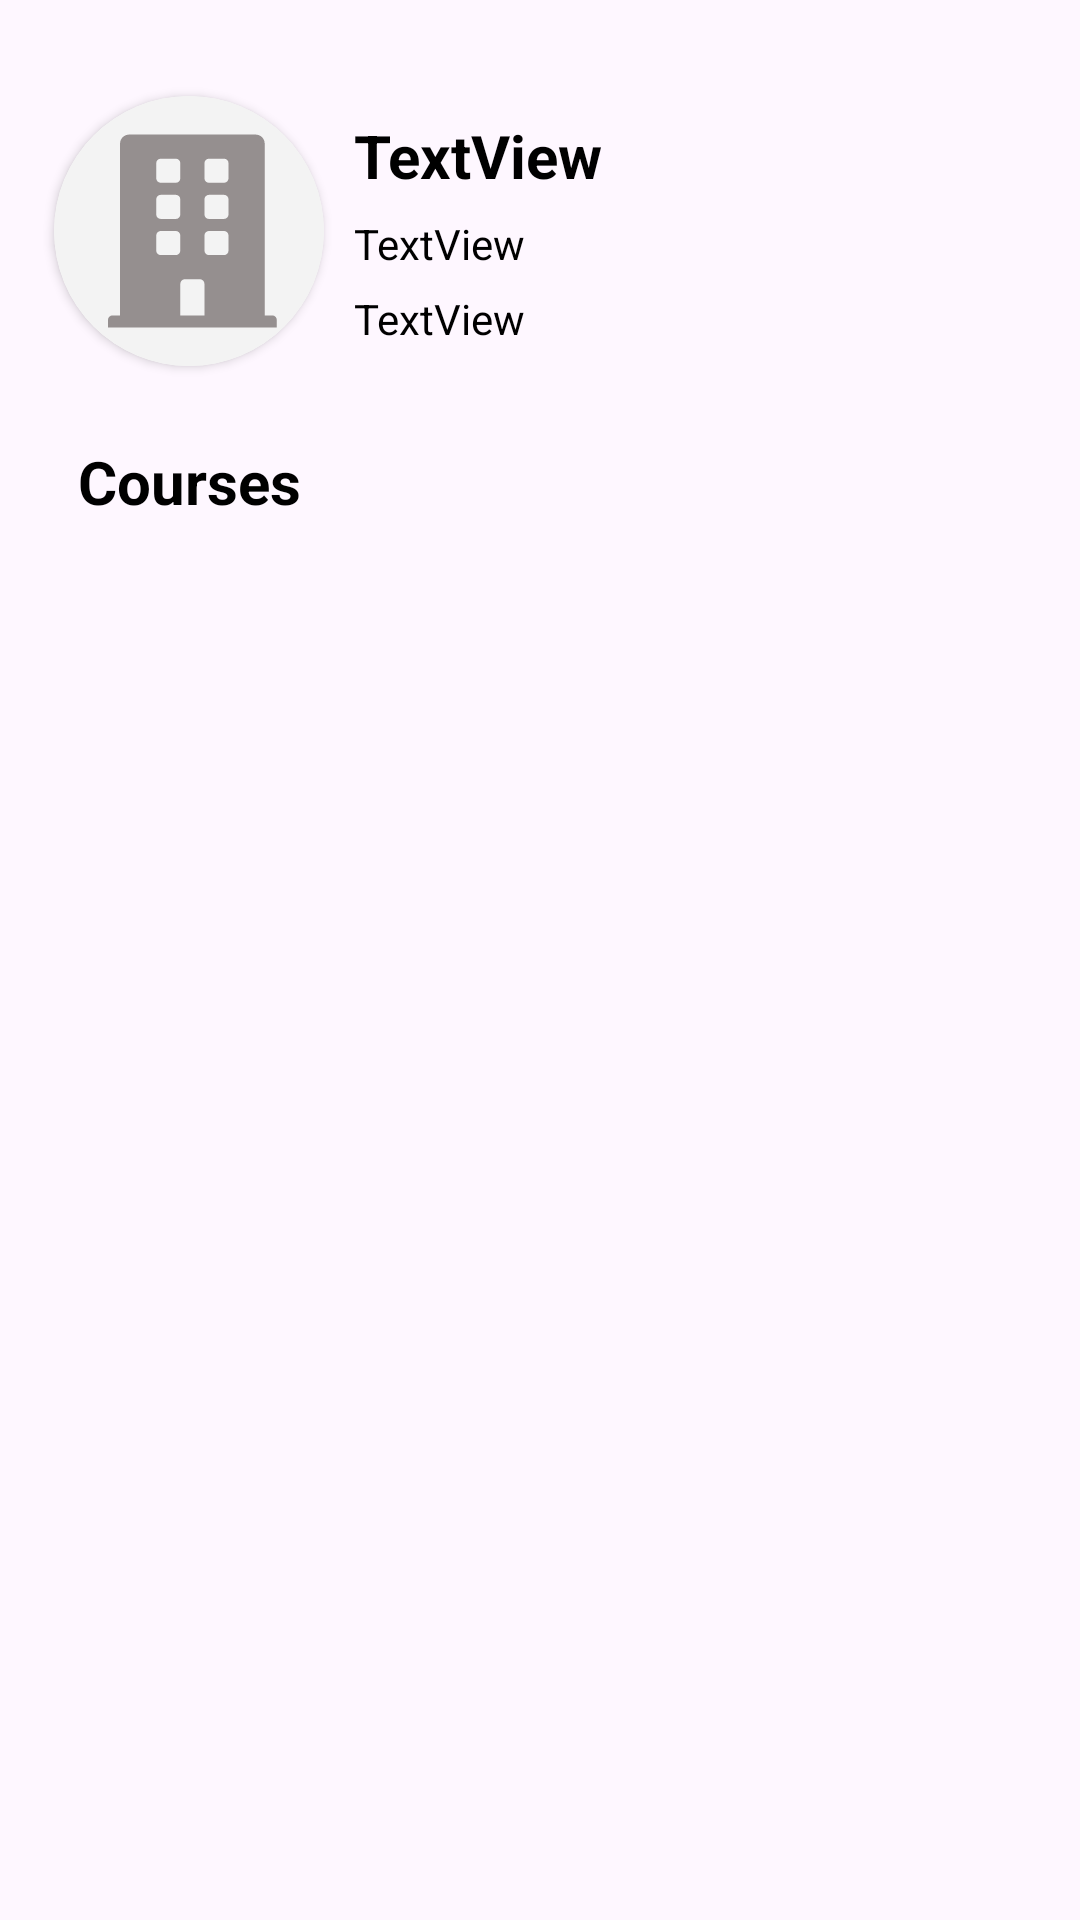

Point at icon controls on the screen. Image size 1080×1920, points as (x=x, y=y).
building: (x=189, y=231)
